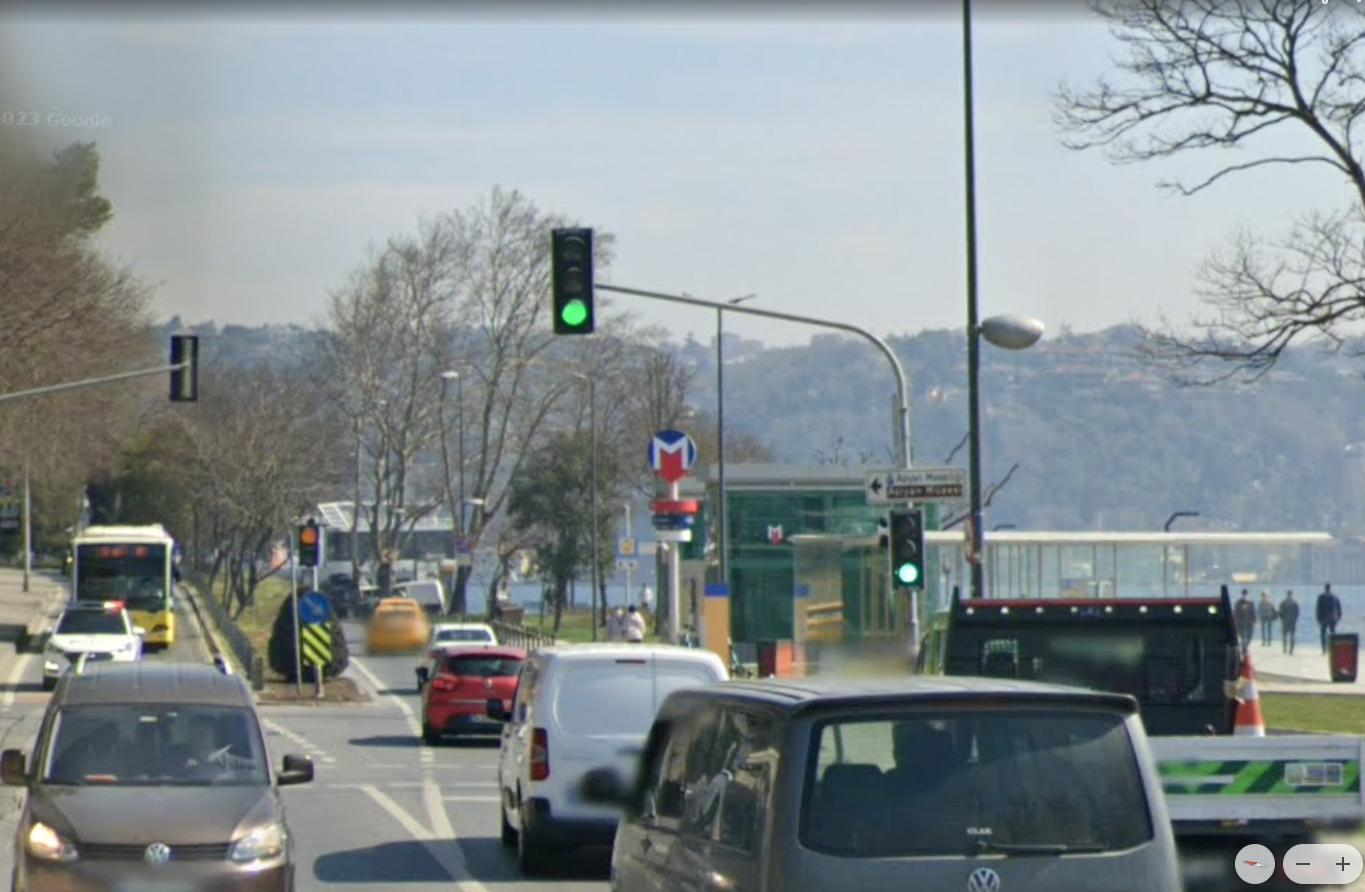greenlight: (555, 228, 594, 335), (890, 505, 925, 595)
